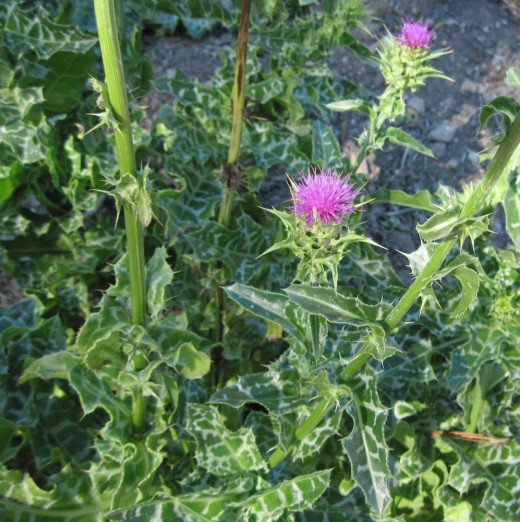thistle: (271, 167, 369, 267), (380, 16, 452, 99)
